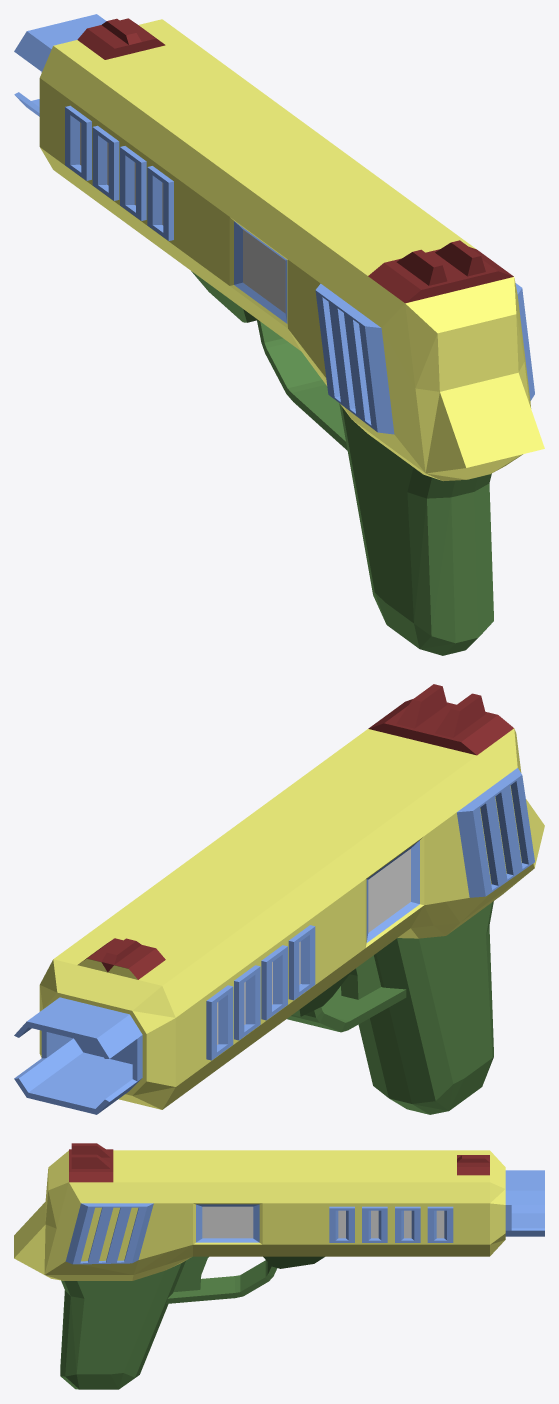
Rendered from Gun.fbx.
3 views of the same model, one above another, from view 1: azimuth 30°, elevation 25°; view 2: azimuth 150°, elevation 25°; view 3: azimuth 270°, elevation 25° (orthographic). The views are drawn at different scales.
Parts seen in each view (by area): view 1: Cube, Cube.003; view 2: Cube, Cube.003, Cube.002; view 3: Cube, Cube.003, Cube.002.
Part boxes in pixels (x1,y1,x2,y2): Cube: (14, 14, 522, 655); Cube.003: (303, 271, 544, 473); Cube: (14, 684, 534, 1114); Cube.003: (439, 729, 544, 901); Cube.002: (341, 955, 381, 999); Cube: (45, 1143, 544, 1389); Cube.003: (14, 1150, 174, 1274); Cube.002: (173, 1256, 208, 1292).
Bounding box in the file's own units: 35.15 × 83.98 × 172.
